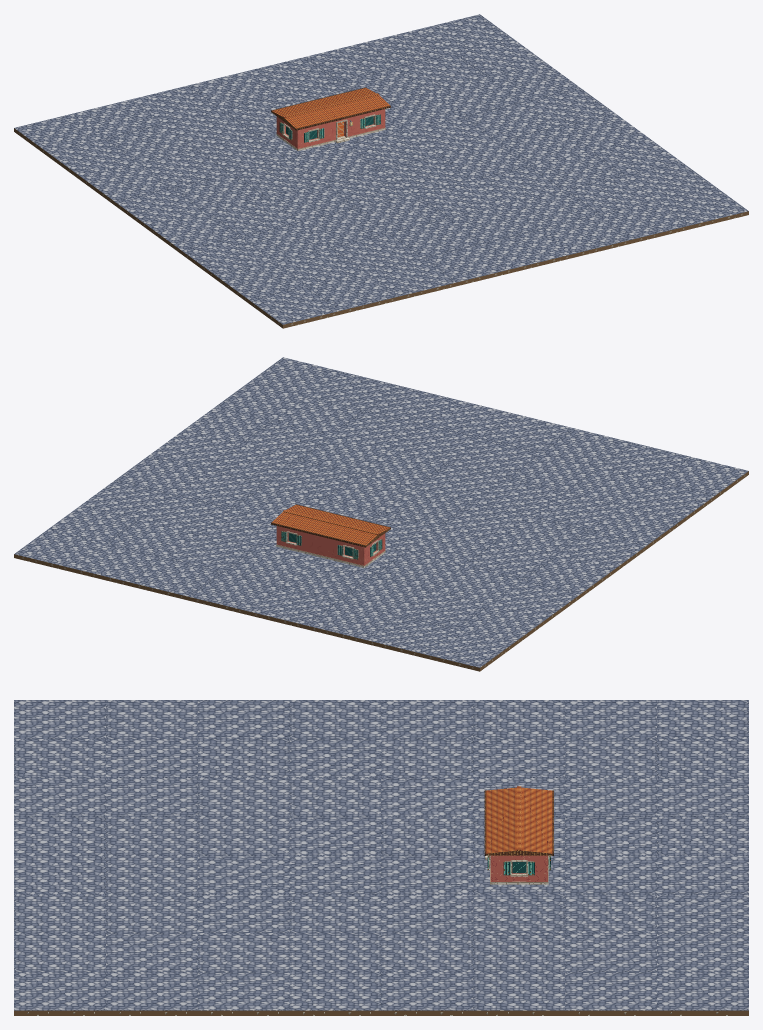
Rendered from coastal-lane-kit.glb.
The picture shows the model from 3 angles, top to bottom: view 1: azimuth 30°, elevation 25°; view 2: azimuth 150°, elevation 25°; view 3: azimuth 270°, elevation 25°; orthographic projection. The views are drawn at different scales.
Parts seen in each view (by area): view 1: coastal-lane-kit__55:terrain, coastal-lane-kit__0:roof, coastal-lane-kit__56:terrain, coastal-lane-kit__59:terrain, coastal-lane-kit__58:terrain, coastal-lane-kit__57:terrain, coastal-lane-kit__60:terrain, coastal-lane-kit__61:terrain, coastal-lane-kit__62:terrain, coastal-lane-kit__9:terrain, coastal-lane-kit__47:terrain, coastal-lane-kit__17:terrain (+52 smaller); view 2: coastal-lane-kit__1:terrain, coastal-lane-kit__0:roof, coastal-lane-kit__2:terrain, coastal-lane-kit__5:terrain, coastal-lane-kit__4:terrain, coastal-lane-kit__3:terrain, coastal-lane-kit__6:terrain, coastal-lane-kit__7:terrain, coastal-lane-kit__8:terrain, coastal-lane-kit__47:terrain, coastal-lane-kit__9:terrain, coastal-lane-kit__39:terrain (+53 smaller); view 3: coastal-lane-kit__0:roof, coastal-lane-kit__22:terrain, coastal-lane-kit__30:terrain, coastal-lane-kit__38:terrain, coastal-lane-kit__46:terrain, coastal-lane-kit__8:terrain, coastal-lane-kit__16:terrain, coastal-lane-kit__54:terrain, coastal-lane-kit__62:terrain, coastal-lane-kit__25:terrain, coastal-lane-kit__27:terrain, coastal-lane-kit__41:terrain (+52 smaller).
Part boxes in pixels (x1=…): coastal-lane-kit__55:terrain: x1=249, y1=286, x2=341, y2=328; coastal-lane-kit__0:roof: x1=271, y1=88, x2=389, y2=129; coastal-lane-kit__56:terrain: x1=308, y1=272, x2=399, y2=314; coastal-lane-kit__59:terrain: x1=482, y1=229, x2=574, y2=271; coastal-lane-kit__58:terrain: x1=424, y1=243, x2=515, y2=285; coastal-lane-kit__57:terrain: x1=366, y1=257, x2=457, y2=299; coastal-lane-kit__60:terrain: x1=541, y1=215, x2=632, y2=257; coastal-lane-kit__61:terrain: x1=599, y1=201, x2=690, y2=243; coastal-lane-kit__62:terrain: x1=657, y1=186, x2=748, y2=228; coastal-lane-kit__9:terrain: x1=47, y1=138, x2=138, y2=180; coastal-lane-kit__47:terrain: x1=215, y1=261, x2=306, y2=303; coastal-lane-kit__17:terrain: x1=81, y1=163, x2=172, y2=205; coastal-lane-kit__1:terrain: x1=421, y1=629, x2=513, y2=671; coastal-lane-kit__0:roof: x1=272, y1=505, x2=390, y2=546; coastal-lane-kit__2:terrain: x1=363, y1=615, x2=454, y2=657; coastal-lane-kit__5:terrain: x1=188, y1=572, x2=280, y2=614; coastal-lane-kit__4:terrain: x1=247, y1=586, x2=338, y2=628; coastal-lane-kit__3:terrain: x1=305, y1=600, x2=396, y2=642; coastal-lane-kit__6:terrain: x1=130, y1=558, x2=221, y2=600; coastal-lane-kit__7:terrain: x1=72, y1=544, x2=163, y2=586; coastal-lane-kit__8:terrain: x1=14, y1=529, x2=105, y2=571; coastal-lane-kit__47:terrain: x1=624, y1=481, x2=715, y2=523; coastal-lane-kit__9:terrain: x1=456, y1=604, x2=547, y2=646; coastal-lane-kit__39:terrain: x1=590, y1=506, x2=681, y2=548; coastal-lane-kit__0:roof: x1=486, y1=787, x2=552, y2=855; coastal-lane-kit__22:terrain: x1=473, y1=972, x2=565, y2=1015; coastal-lane-kit__30:terrain: x1=381, y1=972, x2=473, y2=1015; coastal-lane-kit__38:terrain: x1=289, y1=972, x2=381, y2=1015; coastal-lane-kit__46:terrain: x1=197, y1=972, x2=289, y2=1015; coastal-lane-kit__8:terrain: x1=657, y1=972, x2=748, y2=1015; coastal-lane-kit__16:terrain: x1=565, y1=972, x2=656, y2=1015; coastal-lane-kit__54:terrain: x1=106, y1=972, x2=197, y2=1015; coastal-lane-kit__62:terrain: x1=14, y1=972, x2=105, y2=1015; coastal-lane-kit__25:terrain: x1=381, y1=777, x2=473, y2=816; coastal-lane-kit__27:terrain: x1=381, y1=855, x2=473, y2=894; coastal-lane-kit__41:terrain: x1=197, y1=777, x2=289, y2=816.
Size of the model in its own units: 52.8 by 3.38 by 52.8.
15 materials, 15 textured.
